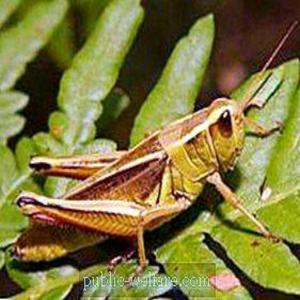locust: (18, 96, 254, 262)
